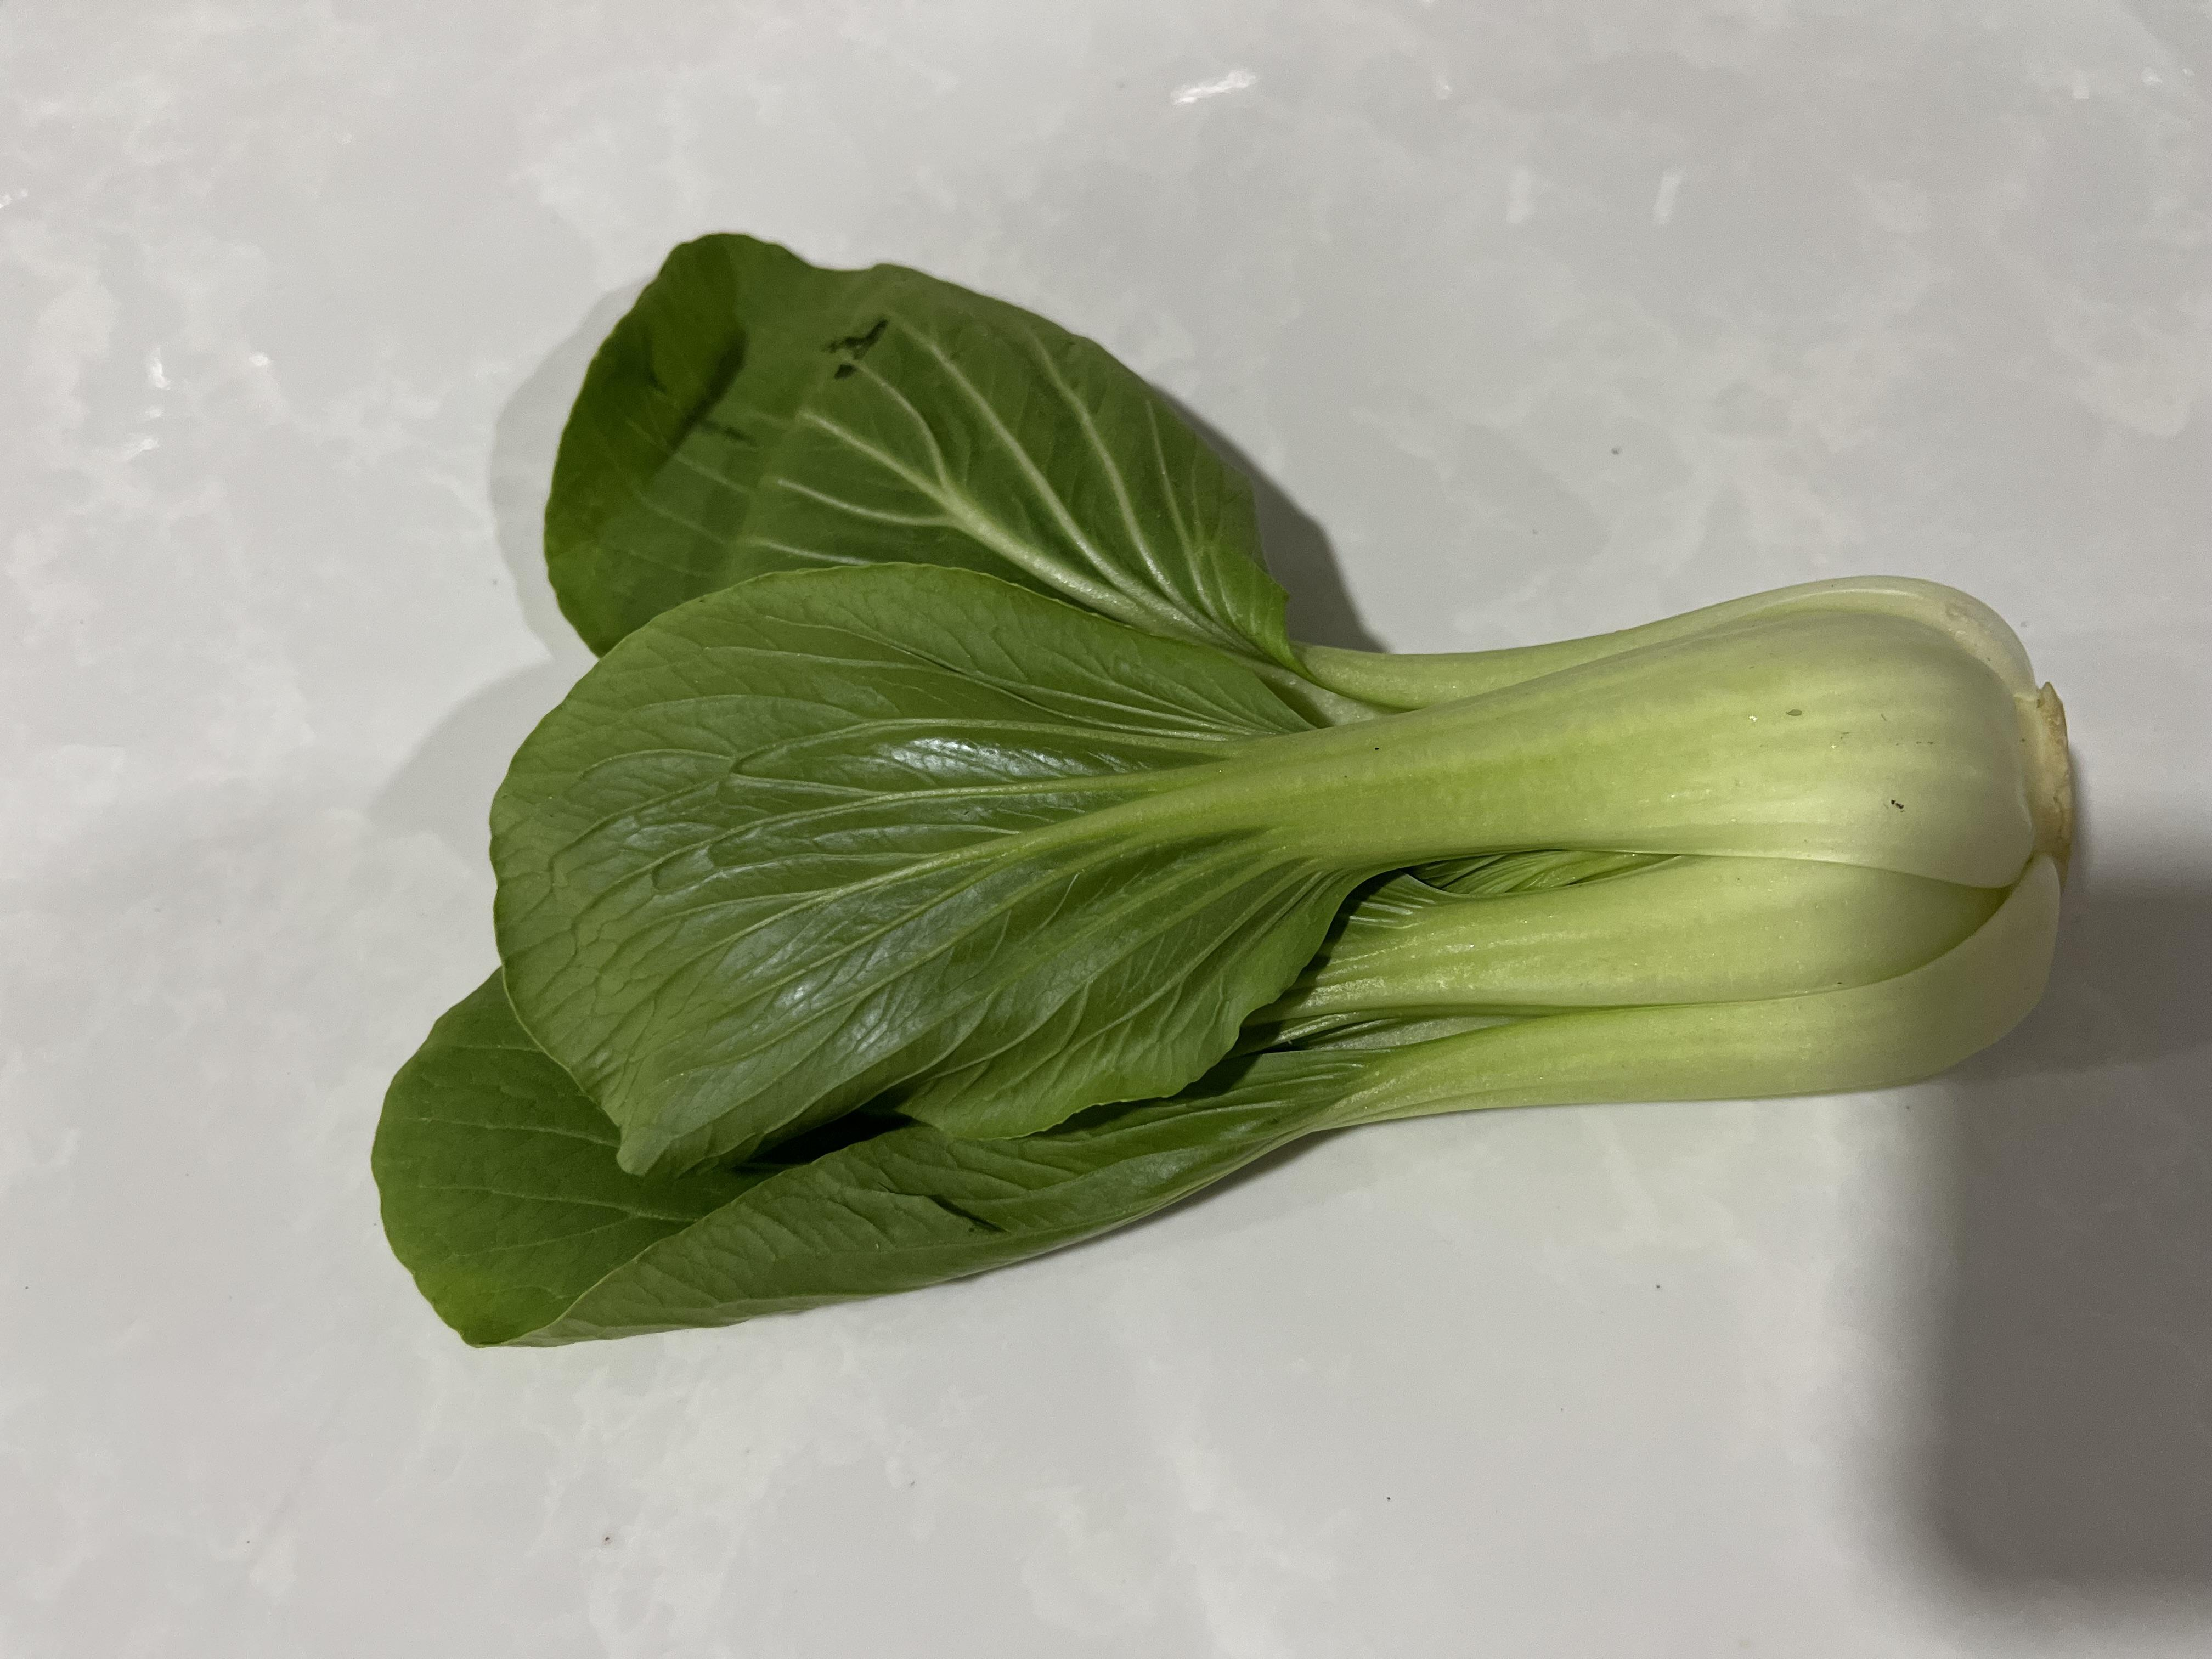Healthy-Pechay: (378, 143, 2200, 1361)
